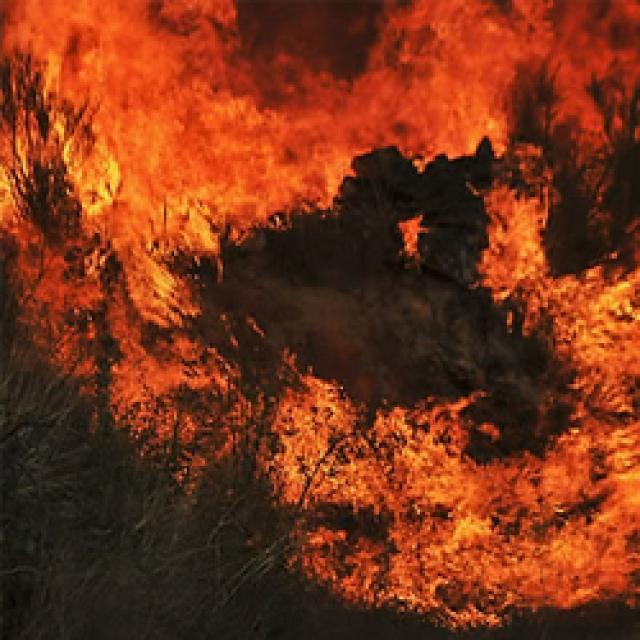Fire: (269, 360, 640, 624), (0, 0, 230, 366), (458, 166, 640, 410), (69, 298, 265, 498), (120, 87, 403, 218), (336, 52, 547, 180)
Smoke: (0, 0, 303, 222), (130, 0, 638, 90)
